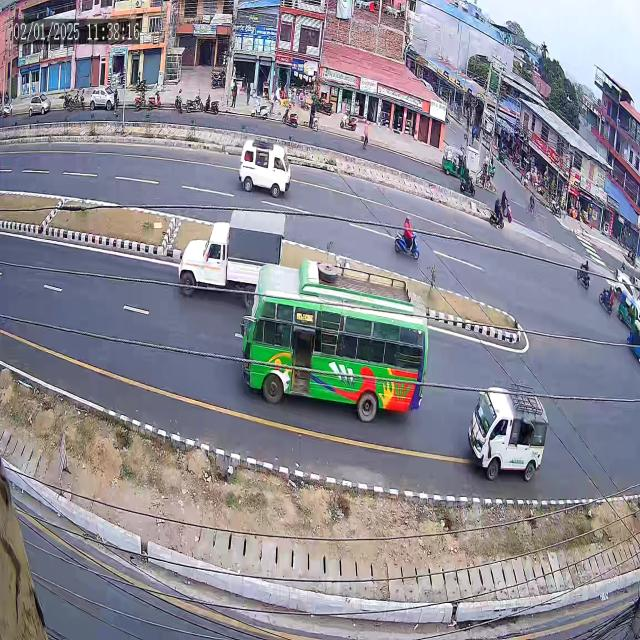bus: (234, 258, 433, 434)
car: (176, 201, 284, 315)
motorcycle: (388, 210, 422, 263), (573, 249, 592, 300)
van: (459, 366, 552, 492), (232, 129, 293, 208)
